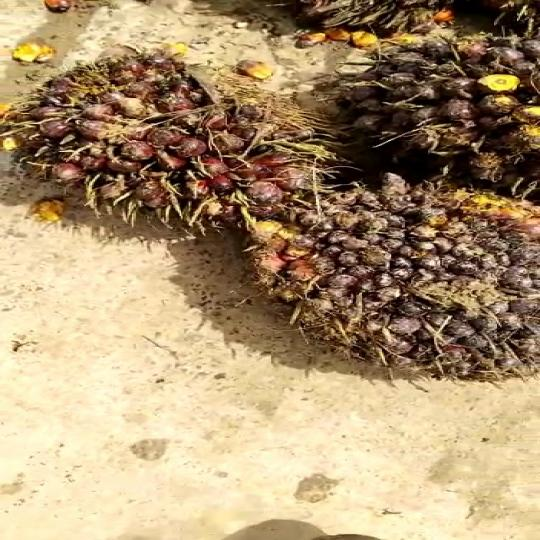kurang masak: (239, 186, 540, 389), (13, 47, 309, 211), (334, 21, 540, 180)
